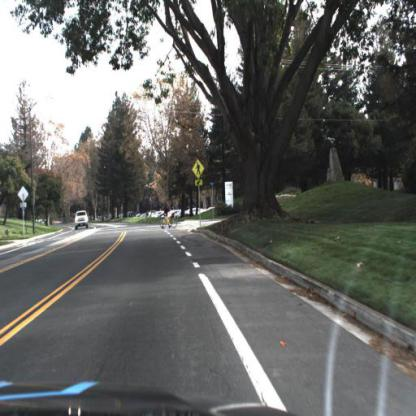car: (74, 210, 90, 231), (74, 211, 89, 228)
pedestrian: (162, 202, 178, 231), (161, 204, 178, 230)
